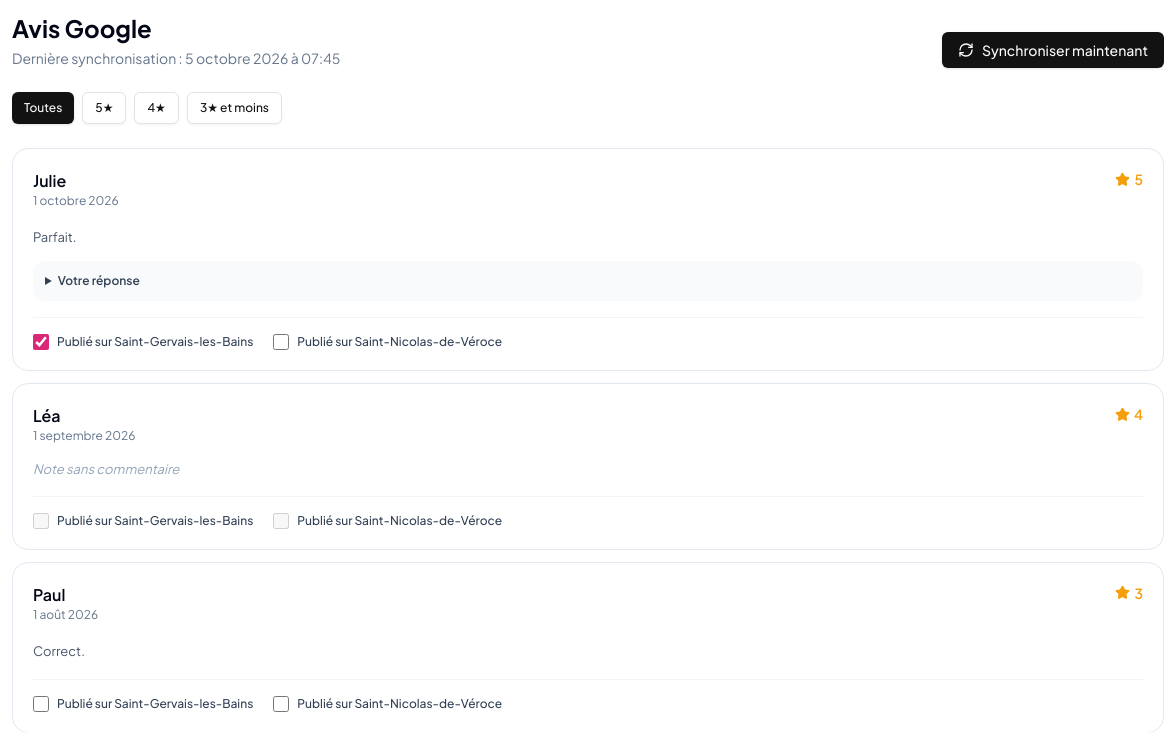
it: 062 AC-02-05 — synchro manuelle et états › runs the sync, shows the summary and refreshes the page
Click the button "Synchroniser maintenant": (1053, 50) [942,32,1164,68]
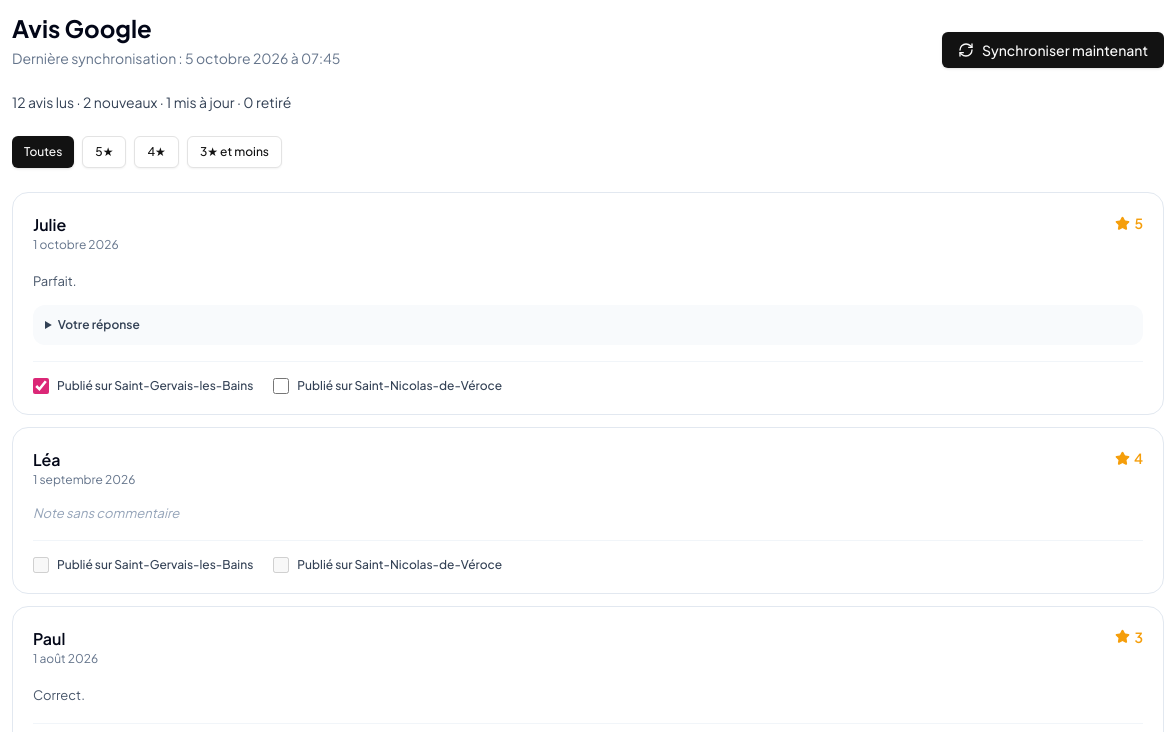
Now the message reads "12 avis lus · 2 nouveaux · 1 mis à jour · 0 retiré", box [12,93,291,111]
